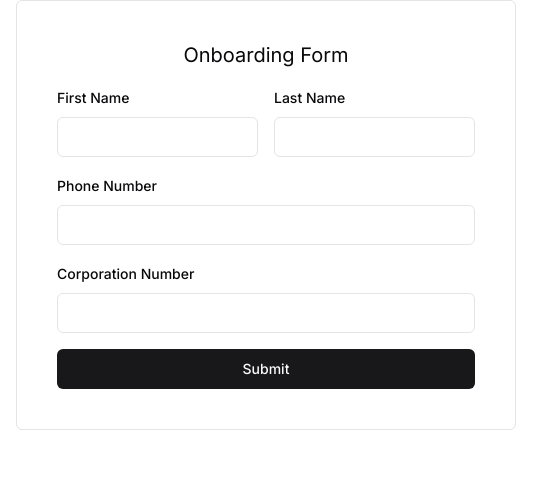
OnboardingForm › displays error message for invalid phone number format
Type "First" into the field labelled "First Name" at (158, 137), box top-left (57, 117), bottom-right (258, 157)
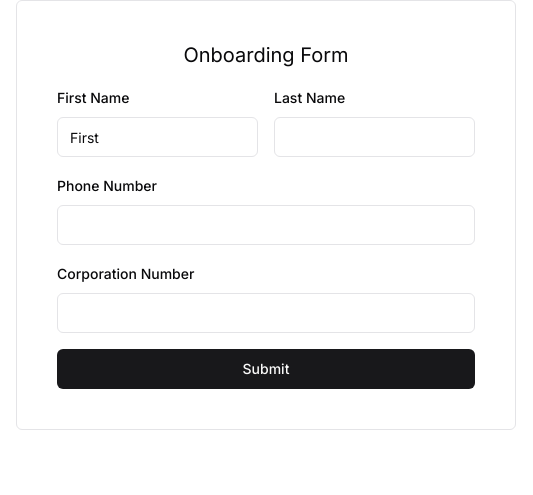
Type "Last" into the field labelled "Last Name" at (374, 137), box top-left (274, 117), bottom-right (475, 157)
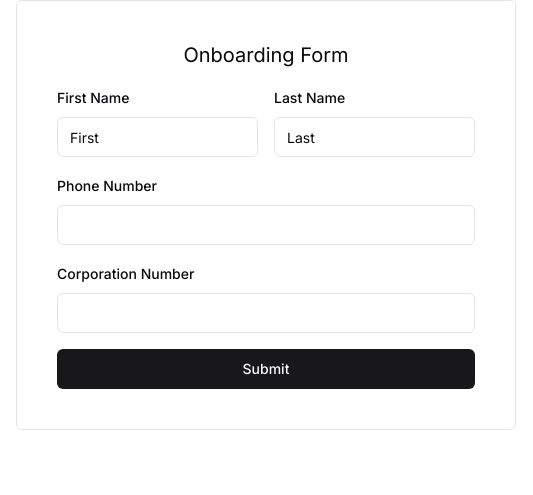
Type "1234567890" into the field labelled "Phone Number" at (266, 225), box top-left (57, 205), bottom-right (475, 245)
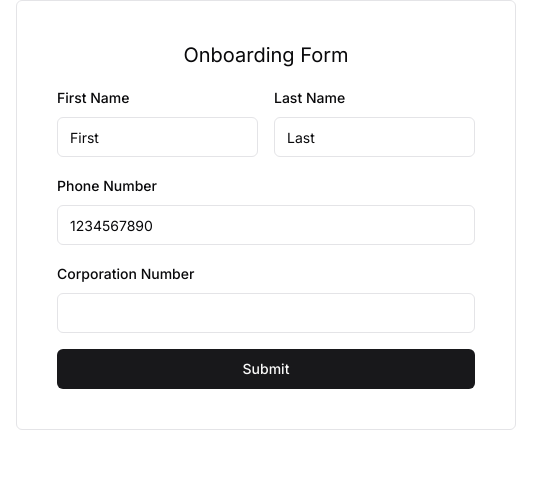
Type "123456789" into the field labelled "Corporation Number" at (266, 313), box top-left (57, 293), bottom-right (475, 333)
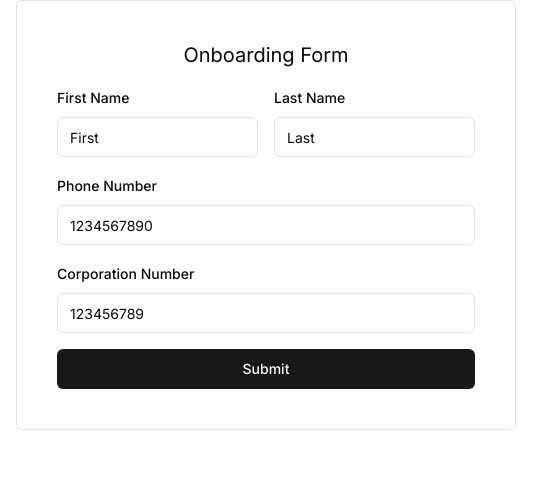
Click the button "Submit" at (266, 369), box top-left (57, 349), bottom-right (475, 389)
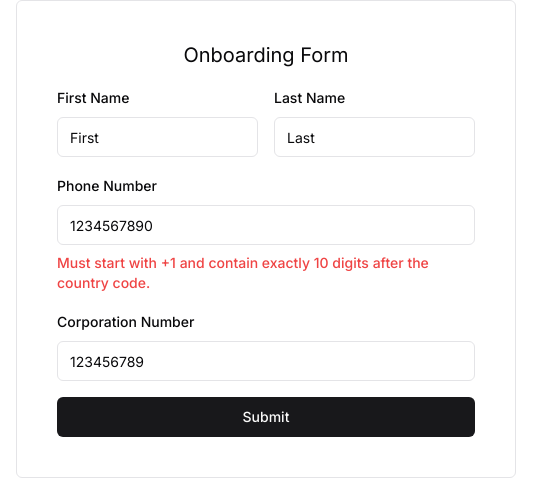
Expected: the text "Must start with +1 and contain exactly 10 digits" is shown, top-left (57, 254), bottom-right (429, 291)
